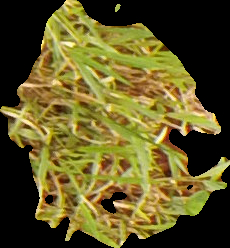grass: (1, 1, 229, 246)
